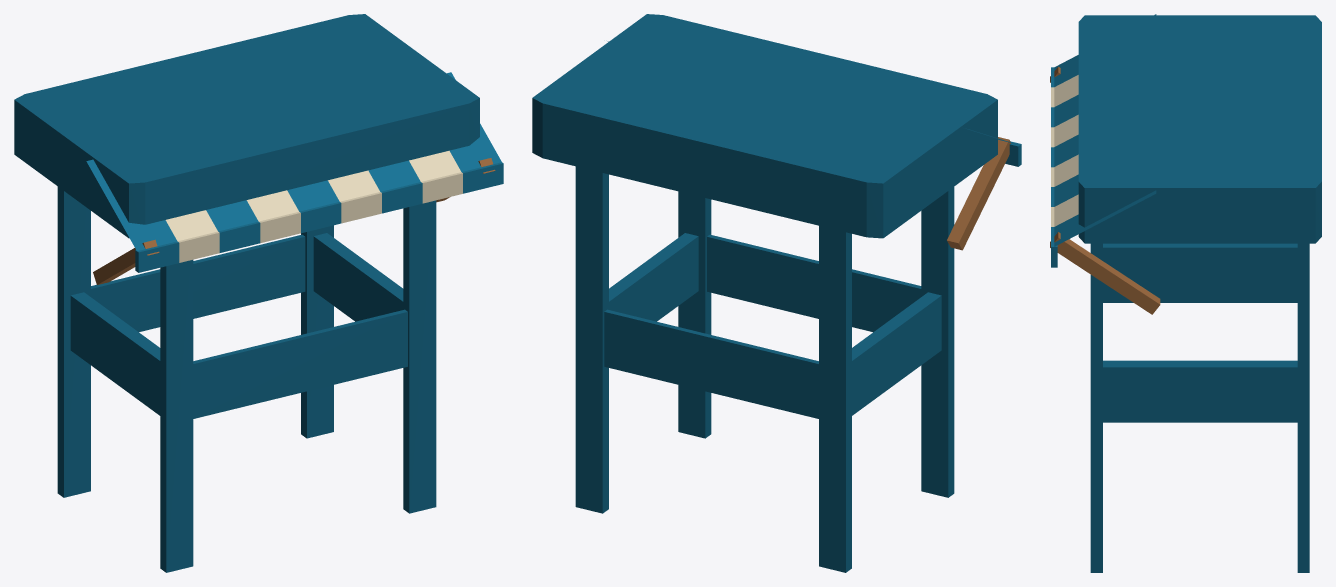
The model's file is market-stall-sky.glb.
3 renders of one model, left to right at view 1: azimuth 30°, elevation 25°; view 2: azimuth 150°, elevation 25°; view 3: azimuth 270°, elevation 25°, orthographic.
Parts seen in each view (by area): view 1: market-stall-sky; view 2: market-stall-sky; view 3: market-stall-sky.
Boxes of the visible parts, x1,y1,x2,y2 form: market-stall-sky: (14,14,503,572); market-stall-sky: (532,14,1021,572); market-stall-sky: (1050,14,1321,572).
Size of the model in its own units: 2.24 by 2.35 by 1.43.
